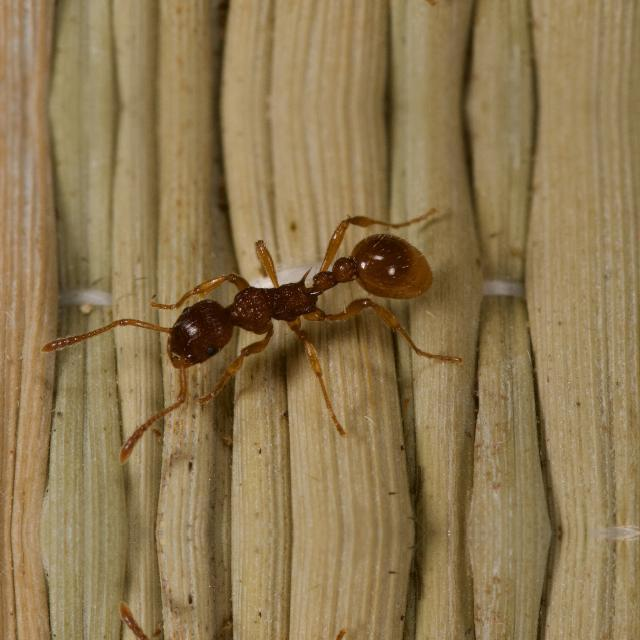Myrmica: (109, 207, 454, 385)
